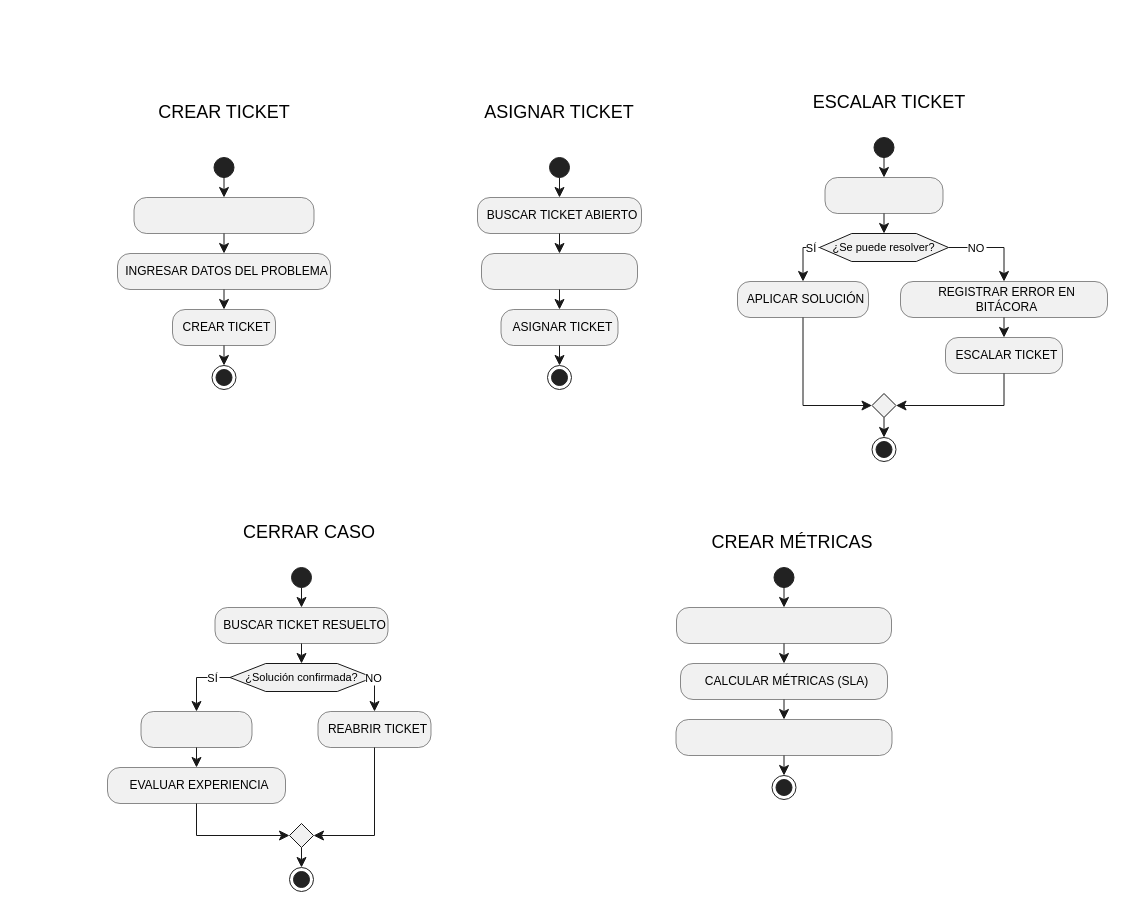
Some shapes in this 1125 by 909 pixel diagram are drawn without their labels. Here are the shapes that lost their labels. From the top down, the centre of each, then its label:
At pixel 223 215: "SELECCIONAR SOLICITANTE".
At pixel 883 195: "EVALUAR TICKET".
At pixel 559 271: "SELECCIONAR TÉCNICO".
At pixel 783 625: "RECOPILAR TICKETS Y BITÁCORAS".
At pixel 196 729: "CERRAR TICKET".
At pixel 783 737: "MOSTRAR RESUMEN DE CONTROL".
